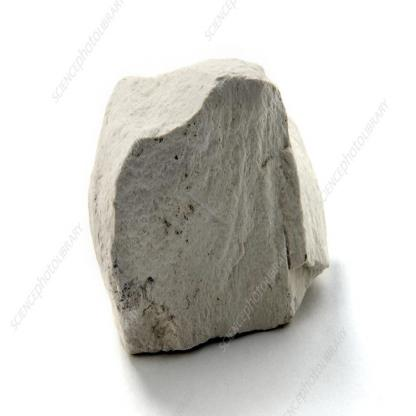Sedimentary_Chalk: (80, 57, 329, 362)
